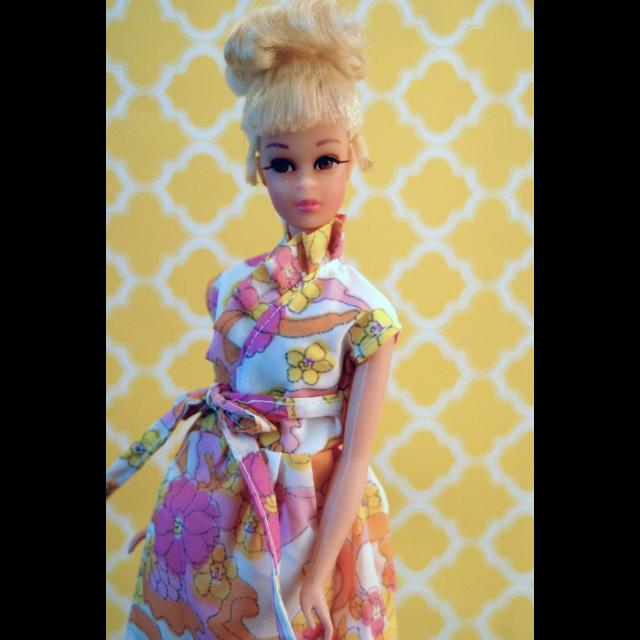Flower: (107, 248, 406, 640), (146, 474, 212, 572), (192, 543, 245, 599), (347, 304, 403, 354), (282, 341, 334, 383), (143, 555, 185, 597), (278, 270, 320, 310), (292, 222, 332, 262), (348, 475, 382, 519), (235, 506, 265, 554), (360, 592, 388, 634)
